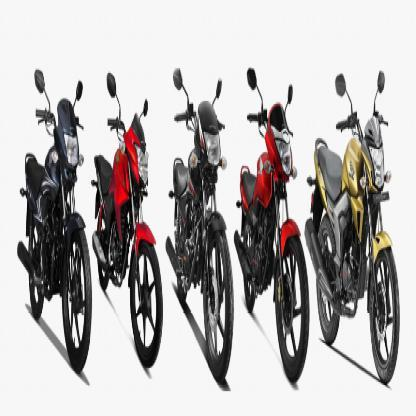Motorcycle: (312, 64, 402, 382), (16, 63, 97, 381), (161, 58, 237, 373), (237, 58, 311, 381), (92, 60, 166, 374)
